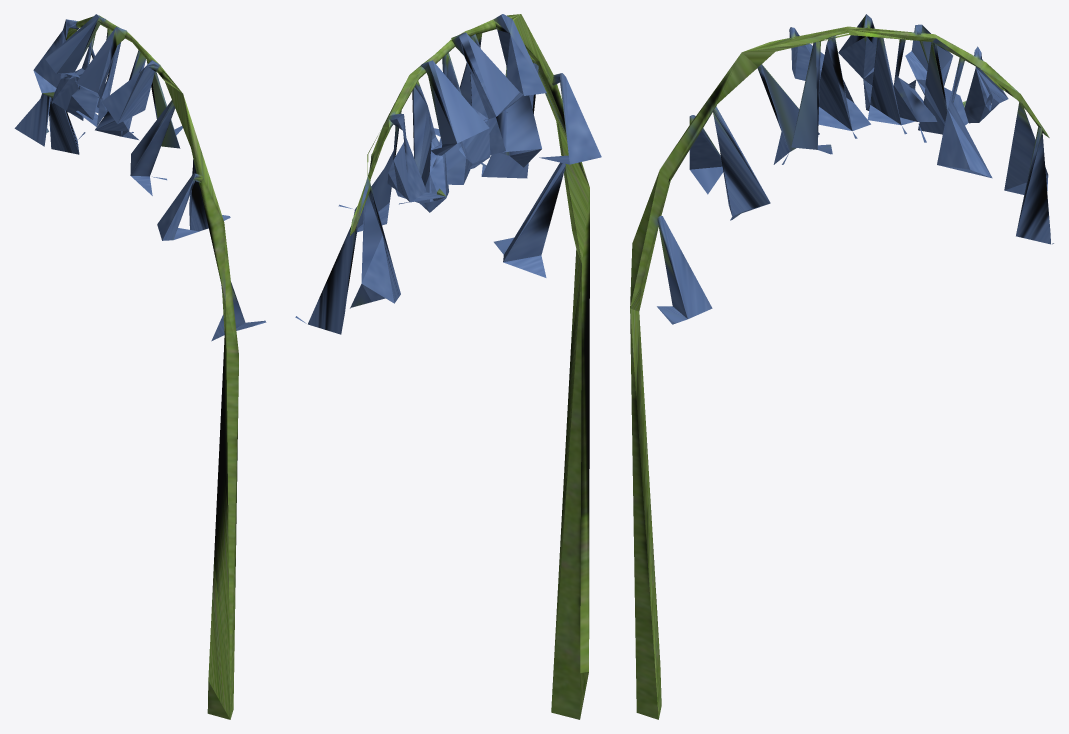
The model's file is bluebell.obj.
3 views of the same model, side by side, from view 1: azimuth 30°, elevation 25°; view 2: azimuth 150°, elevation 25°; view 3: azimuth 270°, elevation 25° (orthographic). The views are drawn at different scales.
Parts seen in each view (by area): view 1: Bluebell; view 2: Bluebell; view 3: Bluebell.
Boxes of the visible parts, left/top/right/bottom form: Bluebell: left=14, top=14, right=266, bottom=719; Bluebell: left=295, top=14, right=601, bottom=719; Bluebell: left=630, top=14, right=1053, bottom=719.
Size of the model in its own units: 0.8073 by 4.64 by 2.58.
